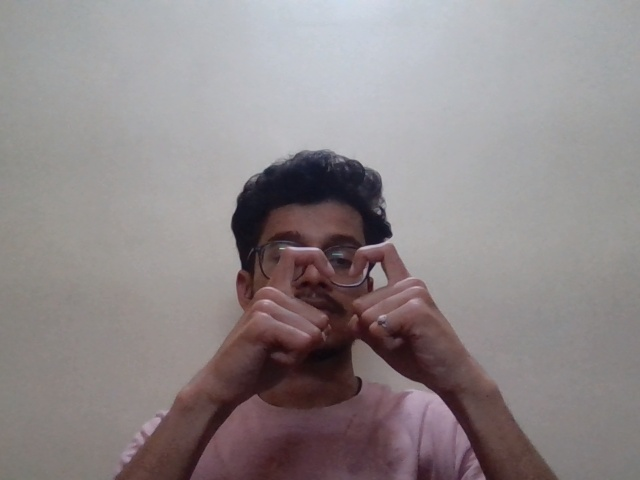who: (251, 236, 420, 400)
